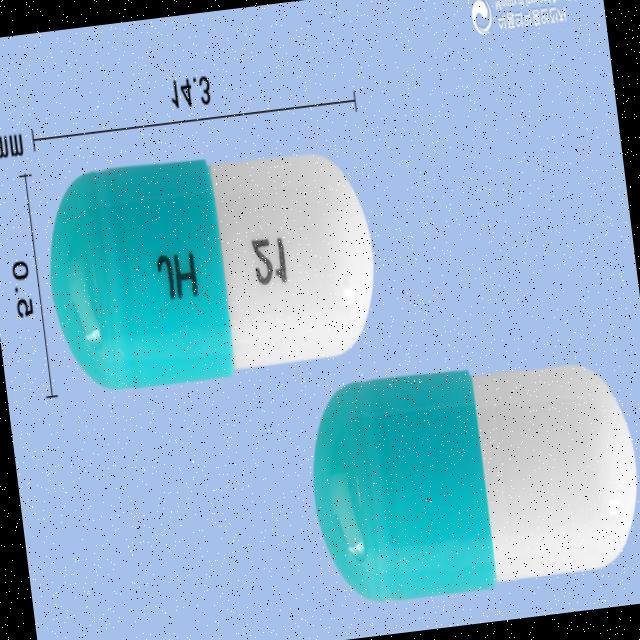Flunazole Cap: (36, 140, 388, 399), (299, 345, 640, 611)
